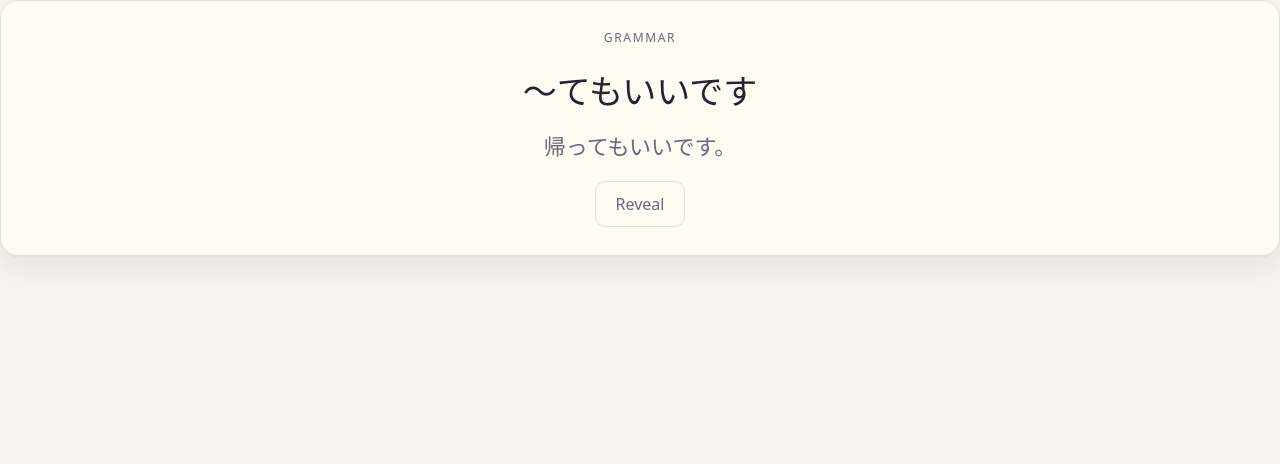
Test: GrammarCard › cues with the pattern, then reveals the gloss, summary, and a verified example
Check: the text "〜てもいいです" is shown, box [523,66,757,117]
Check: the text "permission — it is OK to" is not shown
Click the button "Reveal": x=640, y=204 [594,181,685,228]
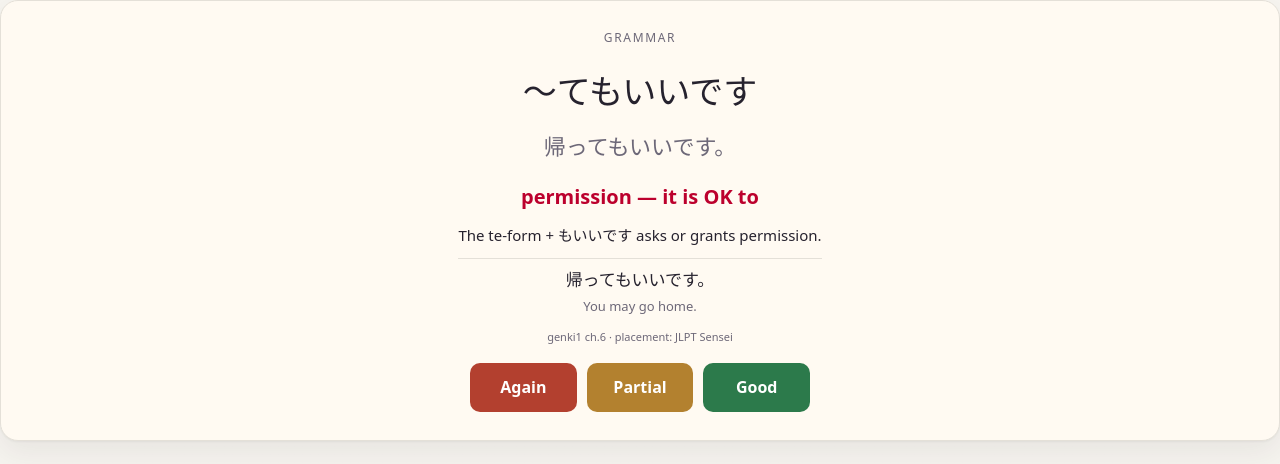
Check: the text "permission — it is OK to" is shown, box [521,181,759,212]
Check: the text "You may go home." is shown, box [583,296,697,314]
